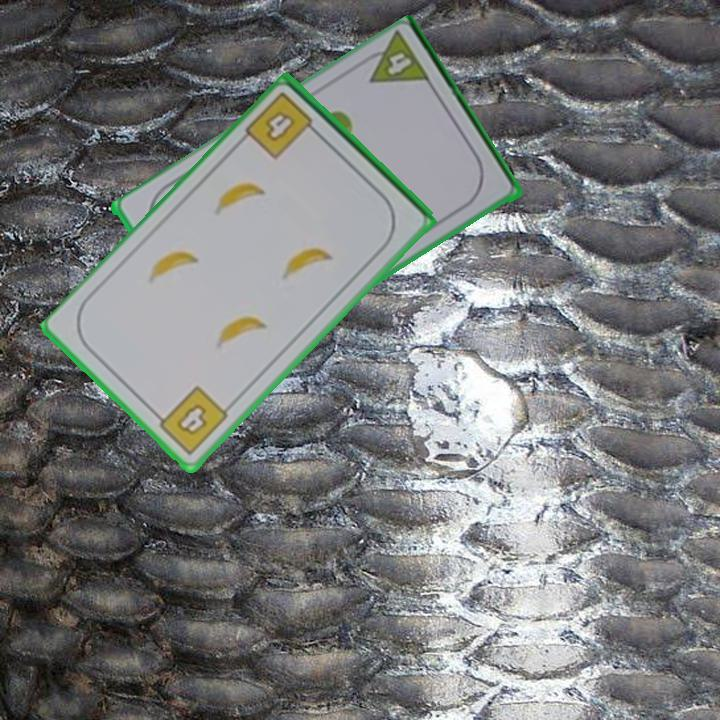4b: (150, 382, 232, 459), (242, 88, 324, 163)
4p: (383, 49, 415, 79)
